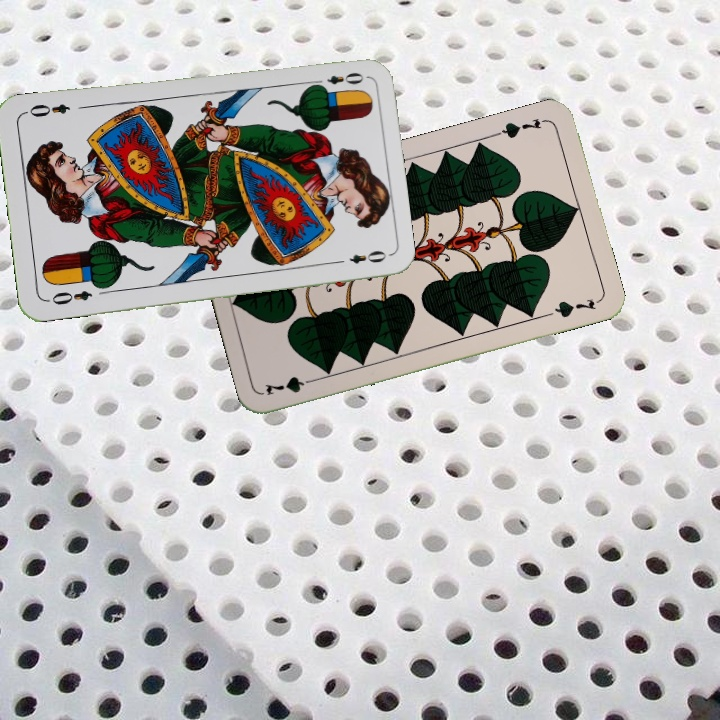EO: (308, 68, 367, 92), (43, 286, 95, 308)
G7: (261, 372, 320, 399), (492, 114, 550, 141)
